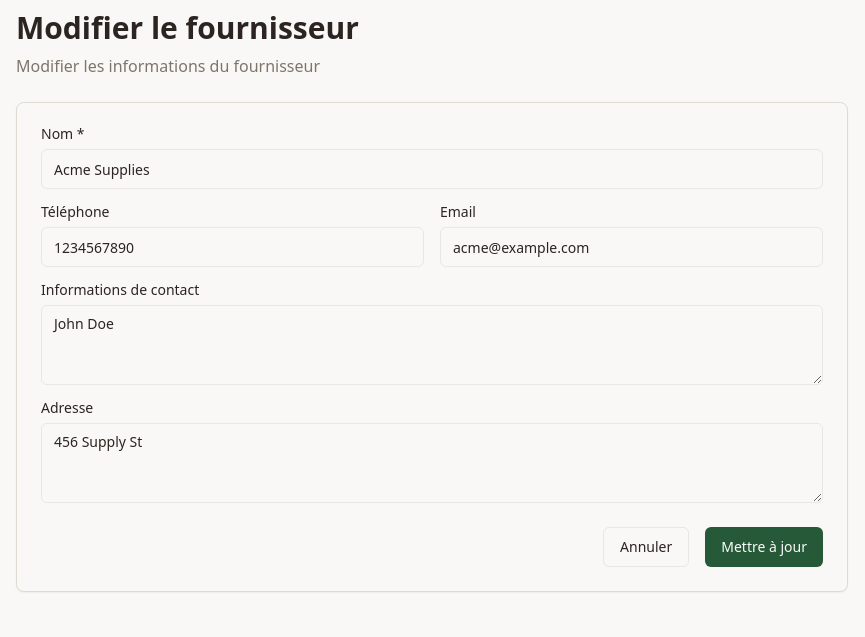
it: SuppliersEditPage › shows validation errors when submitting empty form
// Clear the name field
Clear the field labelled "Nom *": coordinates (432, 169) [41,149,823,189]
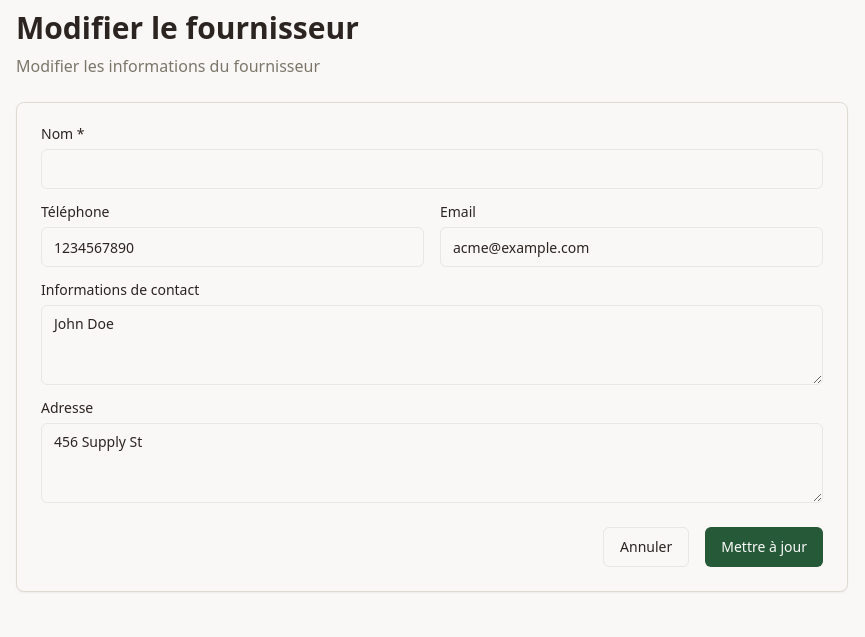
Click the button "Mettre à jour": coordinates (764, 547) [705,527,823,567]
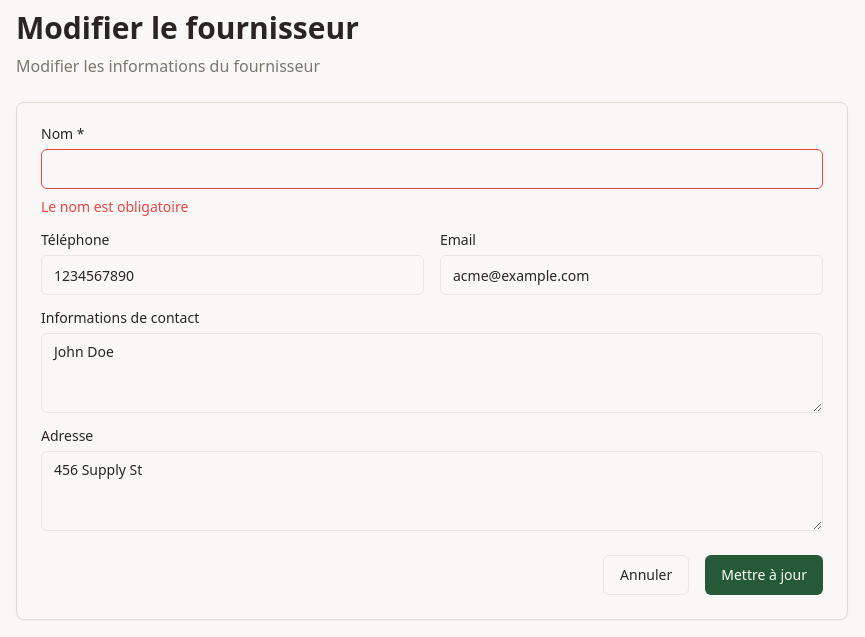
Expected: the text "Le nom est obligatoire" is shown, [41,197,188,216]
